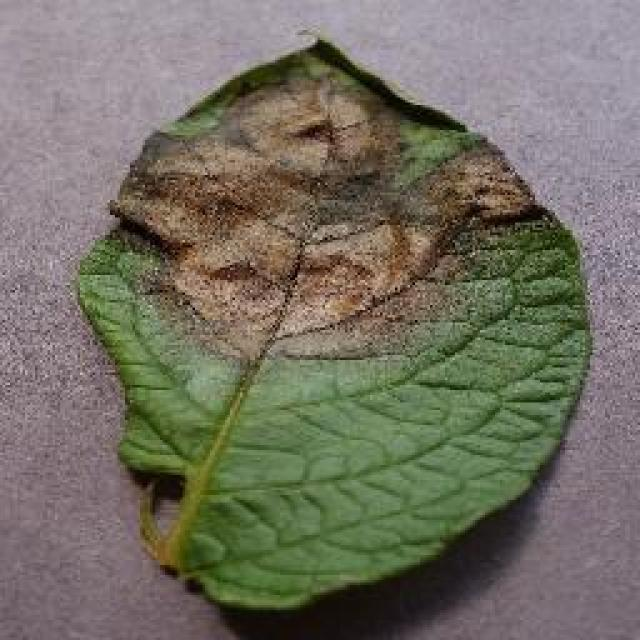Potato: (72, 30, 592, 612)
